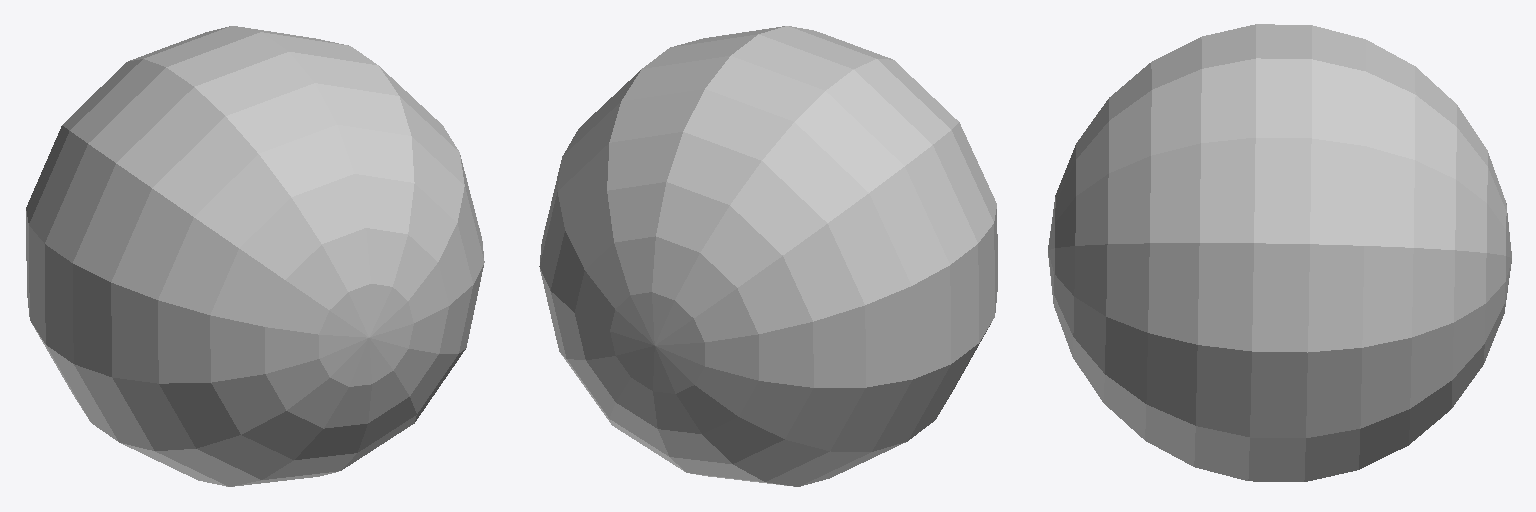
File: escenario.obj
3 views of the same model, side by side, from view 1: azimuth 30°, elevation 25°; view 2: azimuth 150°, elevation 25°; view 3: azimuth 270°, elevation 25° (orthographic).
Visible parts, largest first — view 1: pSphere1_lambert4_0; view 2: pSphere1_lambert4_0; view 3: pSphere1_lambert4_0.
Part boxes in pixels (bbox=[...]): pSphere1_lambert4_0: bbox=[26, 26, 484, 486]; pSphere1_lambert4_0: bbox=[539, 26, 997, 486]; pSphere1_lambert4_0: bbox=[1048, 24, 1511, 481].
Bounding box in the file's own units: 220 × 222 × 225.